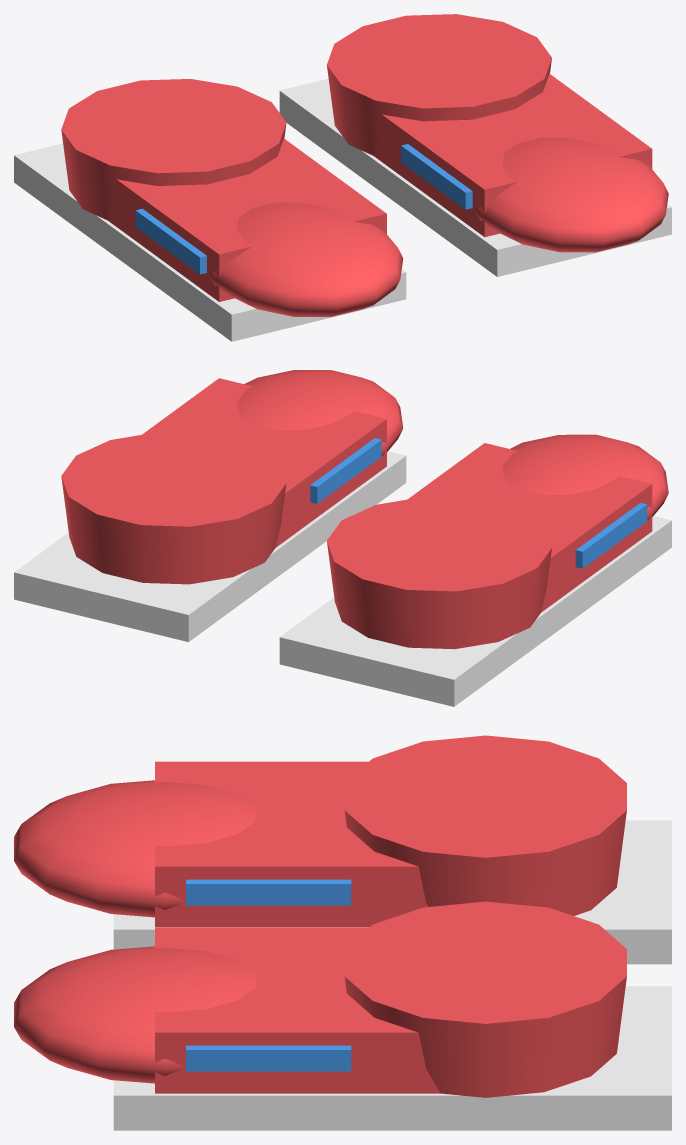
File: shoes_fun_1.glb
3 renders of one model, top to bottom at view 1: azimuth 30°, elevation 25°; view 2: azimuth 150°, elevation 25°; view 3: azimuth 270°, elevation 25°, orthographic. The views are drawn at different scales.
Size of the model in its own units: 0.3696 by 0.0676 by 0.3563.
